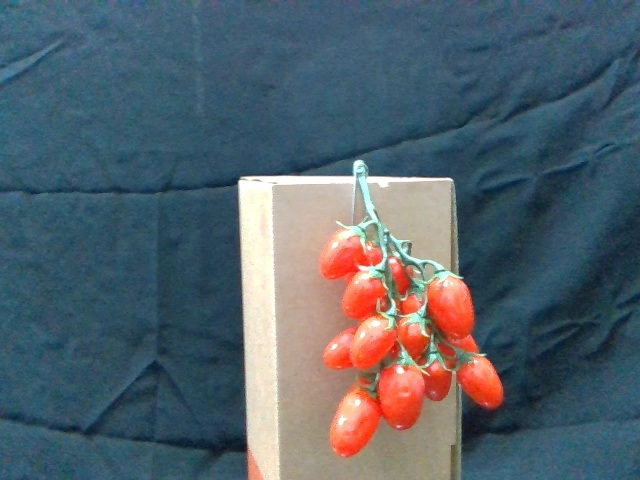tomato: (330, 382, 380, 460), (380, 355, 427, 433), (430, 269, 477, 337), (455, 351, 506, 409), (324, 221, 371, 280), (354, 309, 397, 369), (343, 263, 389, 317), (421, 350, 456, 404), (324, 325, 362, 372), (401, 308, 436, 358)
